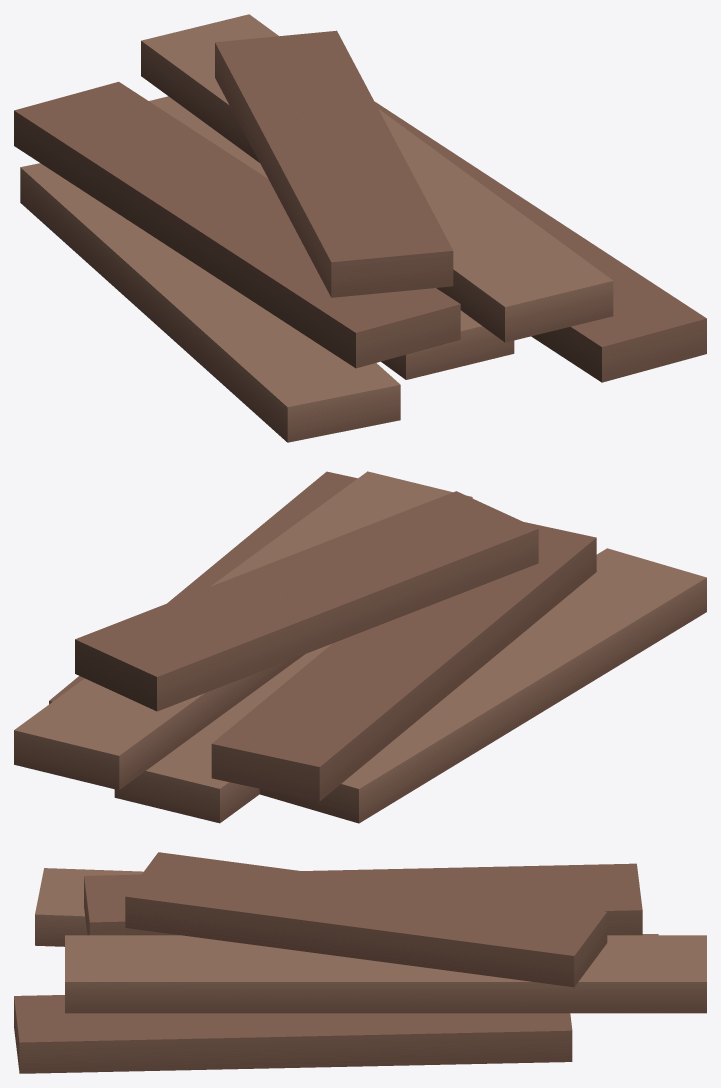
The model's file is planks.glb.
The picture shows the model from 3 angles, top to bottom: view 1: azimuth 30°, elevation 25°; view 2: azimuth 150°, elevation 25°; view 3: azimuth 270°, elevation 25°; orthographic projection. The views are drawn at different scales.
Visible parts, largest first — view 1: resource-planks; view 2: resource-planks; view 3: resource-planks.
Part boxes in pixels (left/top/right/bottom): resource-planks: left=14, top=14, right=706, bottom=442; resource-planks: left=14, top=471, right=706, bottom=823; resource-planks: left=14, top=852, right=706, bottom=1073.
Size of the model in its own units: 0.9883 by 0.248 by 1.66.
Materials: 1 (1 with a texture image).
